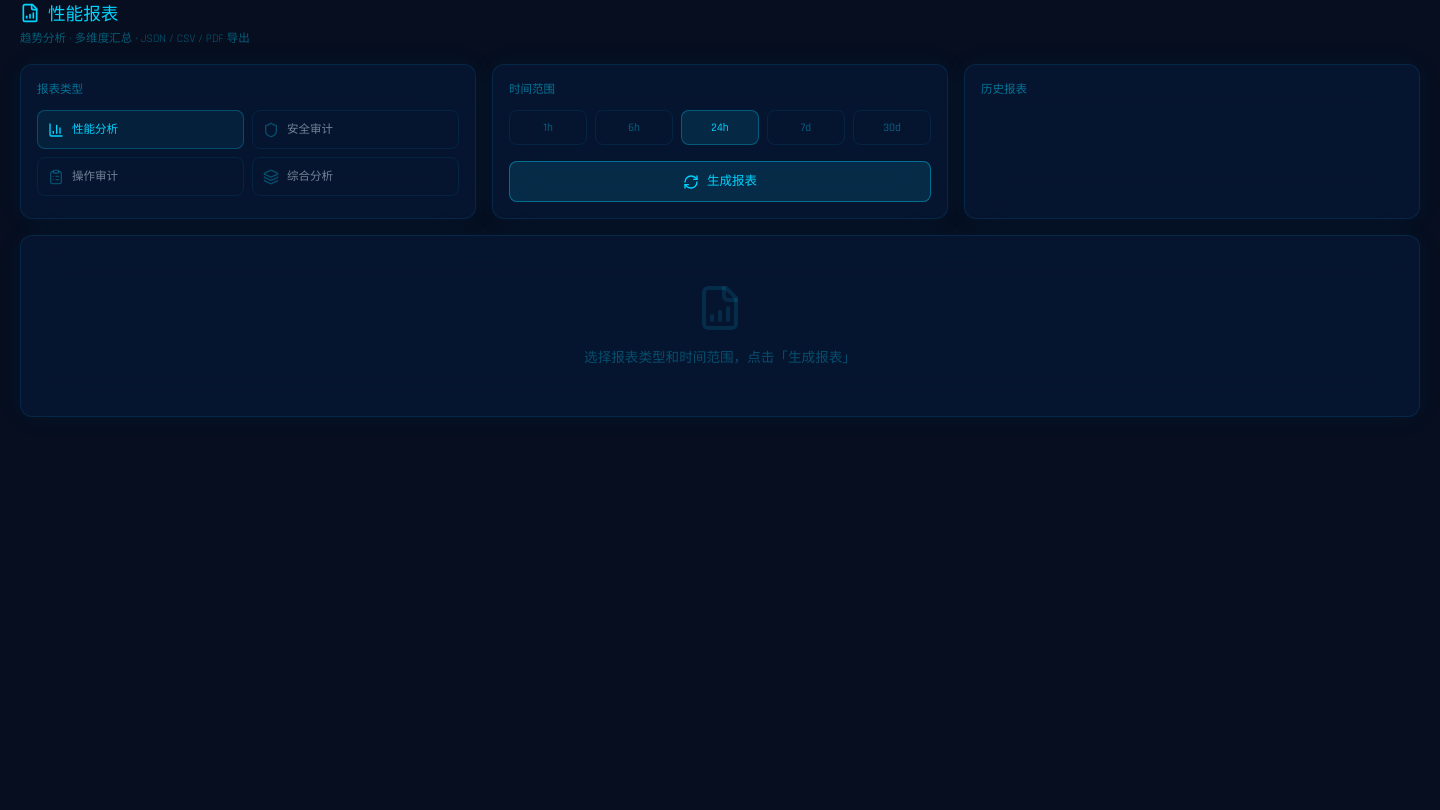
Test: ReportExporter › renders node breakdown table（真实上游池节点）
Step 1. Click the button "生成报表" → (720, 182), box [509,161,931,202]
(page scrolled)
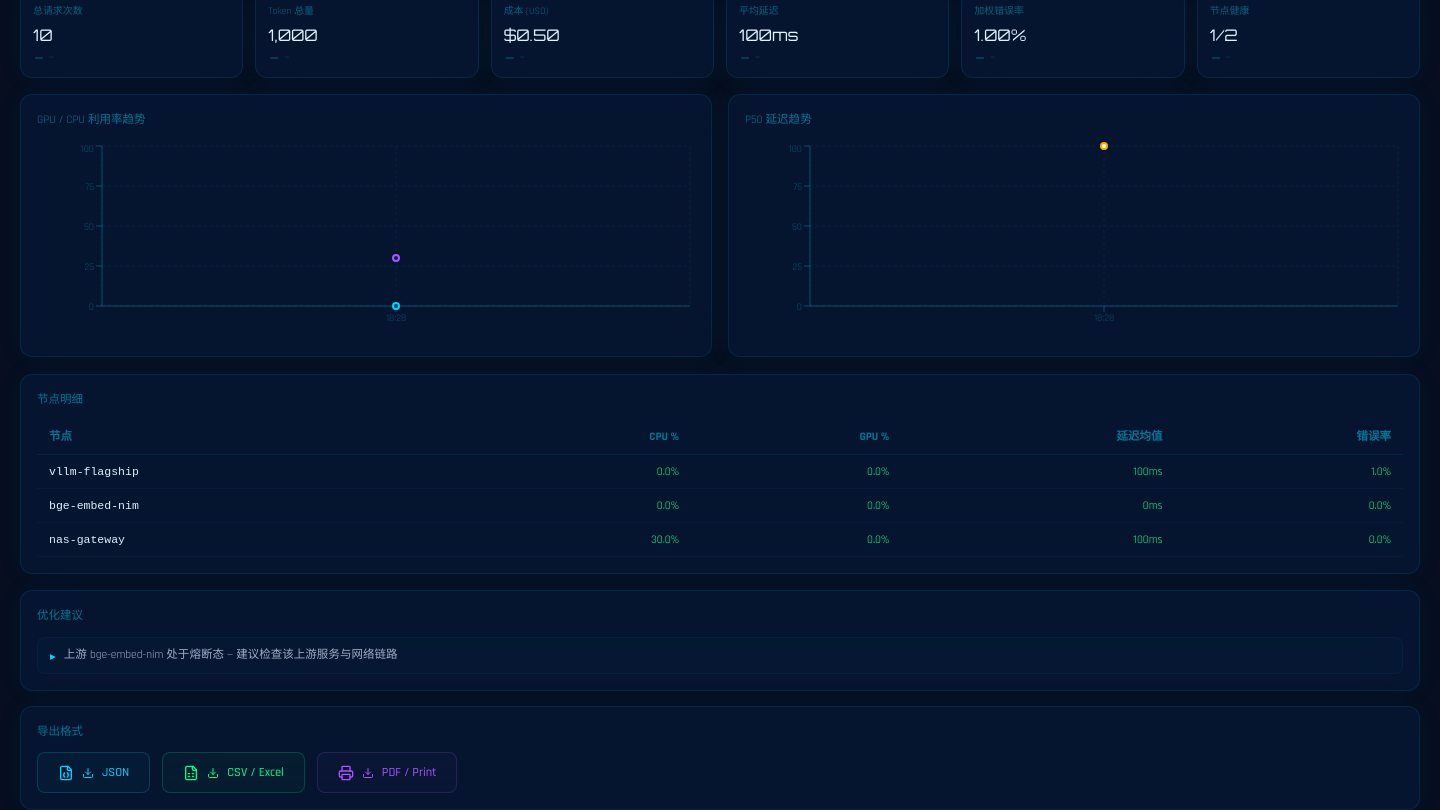
Expected: the text "vllm-flagship" is shown, [37,454,481,488]
Expected: the text "bge-embed-nim" is shown, [37,488,481,522]
Expected: the text "nas-gateway" is shown, [37,522,481,556]
